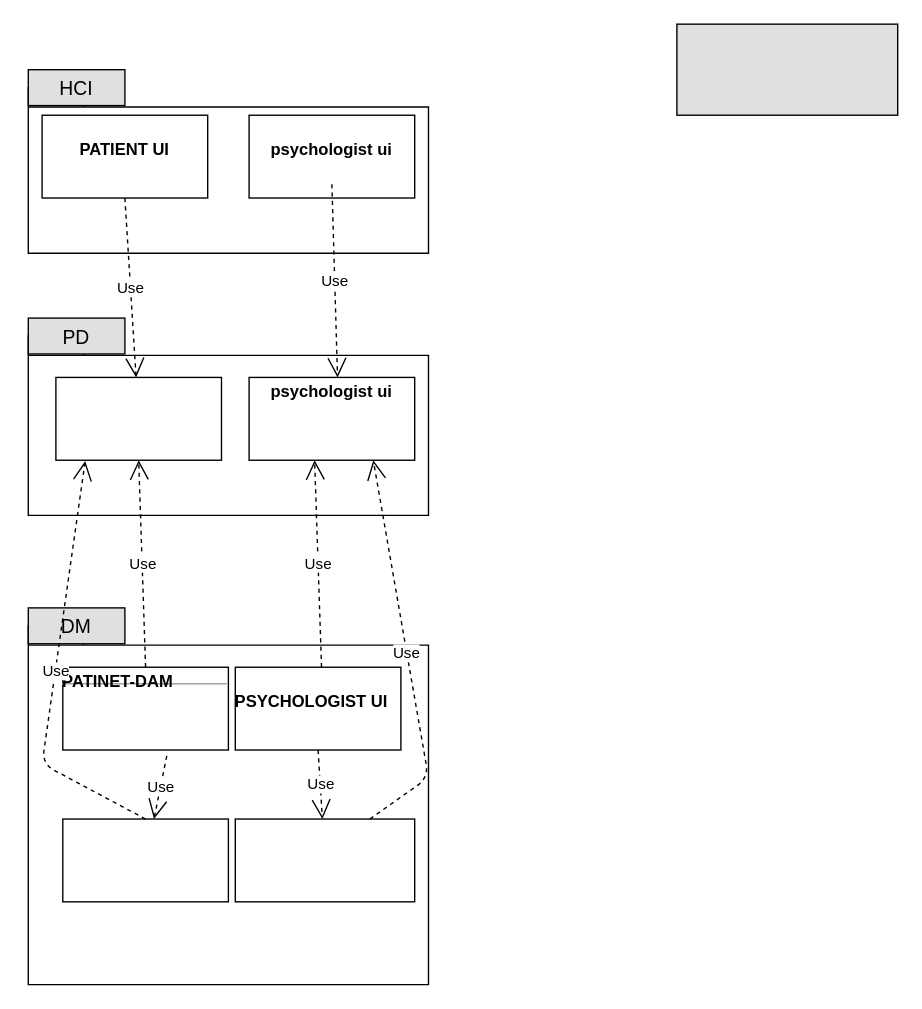
Some shapes in this 922 by 1009 pixel diagram are drawn without their labels. The shapes that lost their labels are listed below. From the top down, each one's centre as x and y in pixels, then its label:
[787,69]: LOGIN sub-system
[138,418]: PATIENT
[144,860]: PATIENT TABLE
[324,860]: PSYCHOLOGIST TABLE
